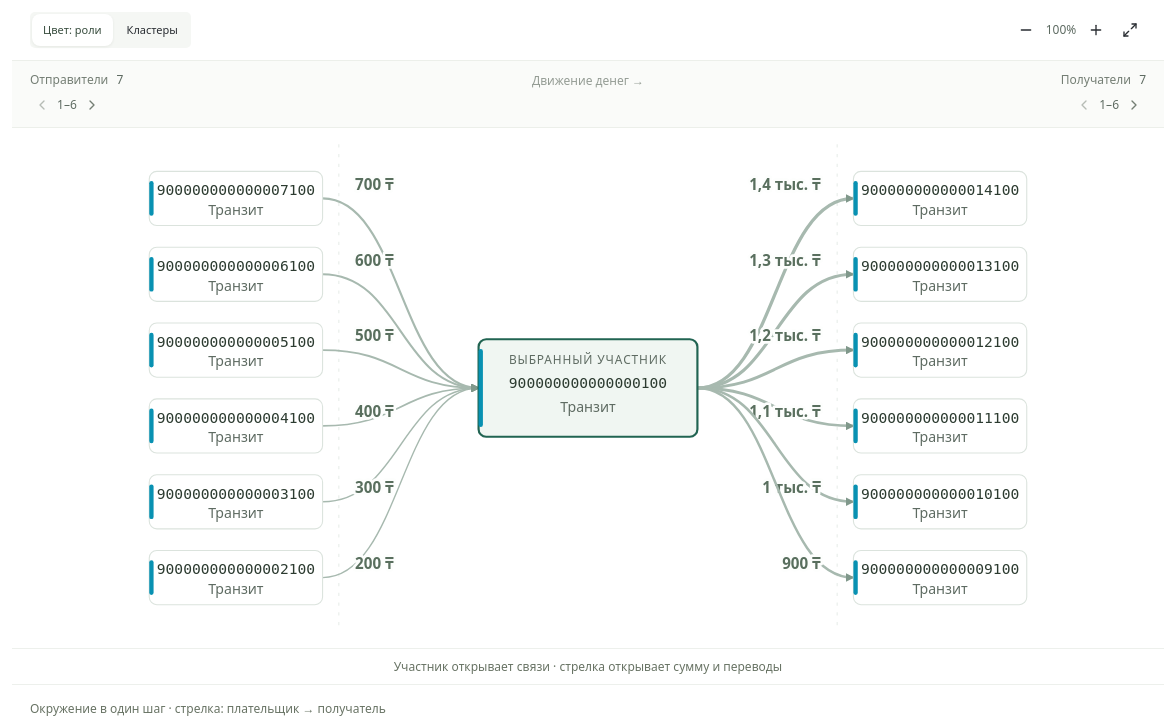
directional lanes preserve arrows, amount evidence and independent access to every neighbor
Expected: the text "Отправители" is shown, x1=30 y1=71 x2=108 y2=88
Expected: the text "Получатели" is shown, x1=1061 y1=71 x2=1131 y2=88
Click the button named "Следующие отправители".
click(92, 104)  # box x1=80 y1=92 x2=104 y2=117
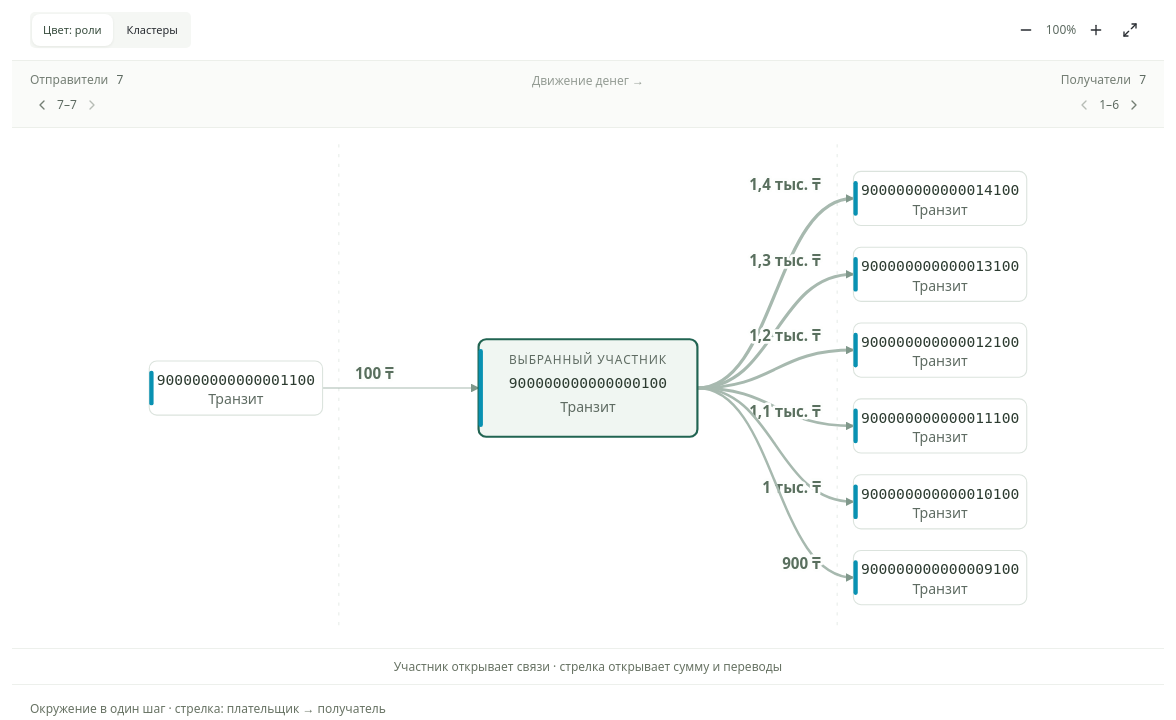
Expected: the button named "Следующие отправители" is disabled, x1=80 y1=92 x2=104 y2=117
Click the button named "Следующие получатели".
click(1134, 104)  # box x1=1122 y1=92 x2=1146 y2=117
(page scrolled)
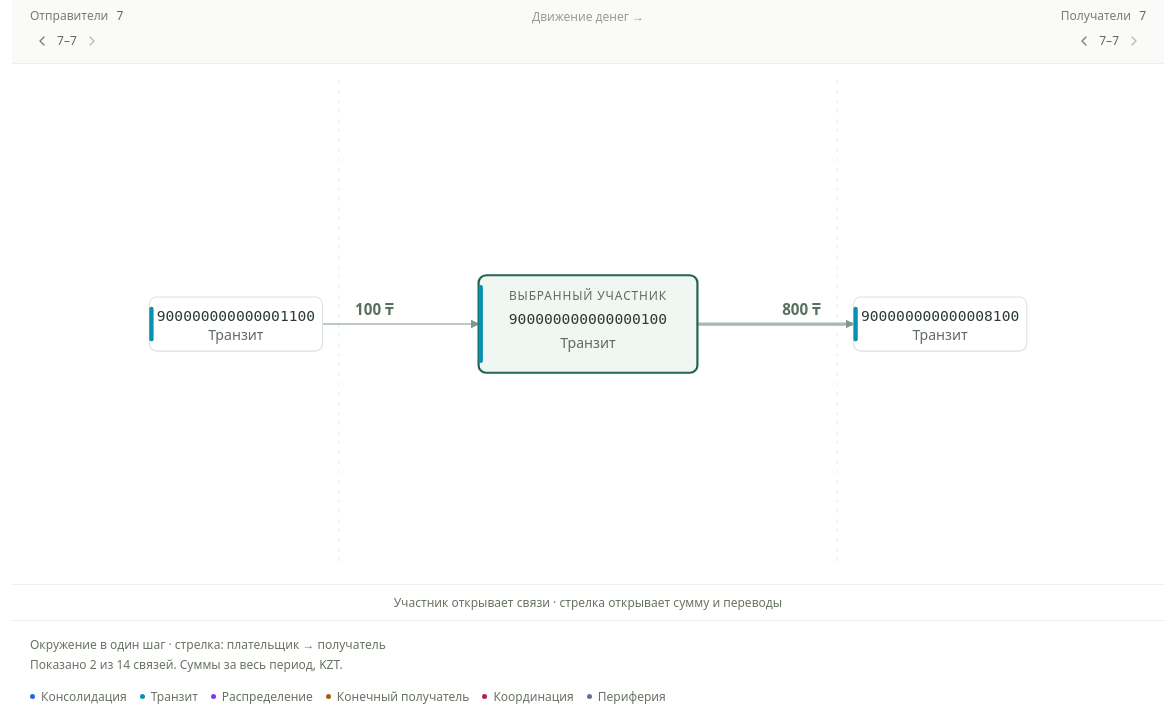
Expected: the text "Показано 2 из 14 связей. Суммы за весь период, KZT." is shown, x1=30 y1=656 x2=343 y2=673
